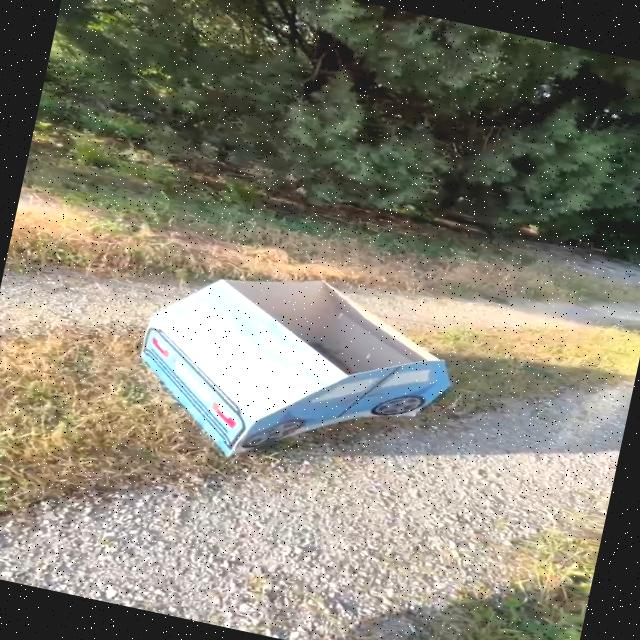blue_car: (74, 215, 509, 526)
